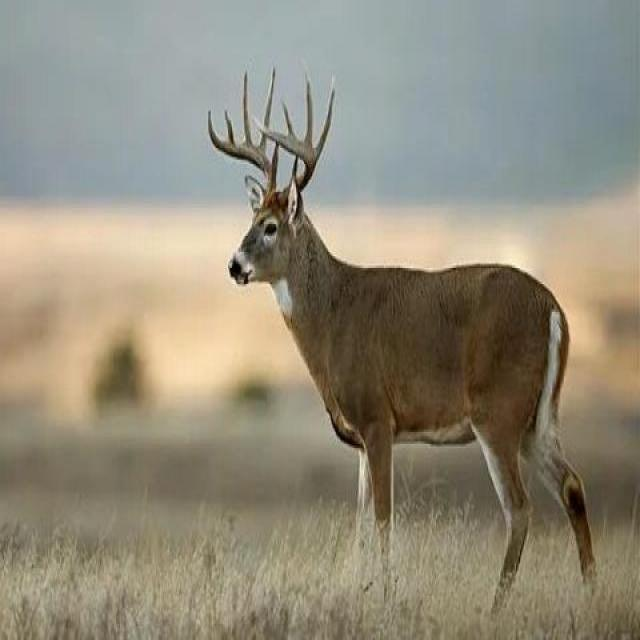deer: (207, 116, 629, 604)
